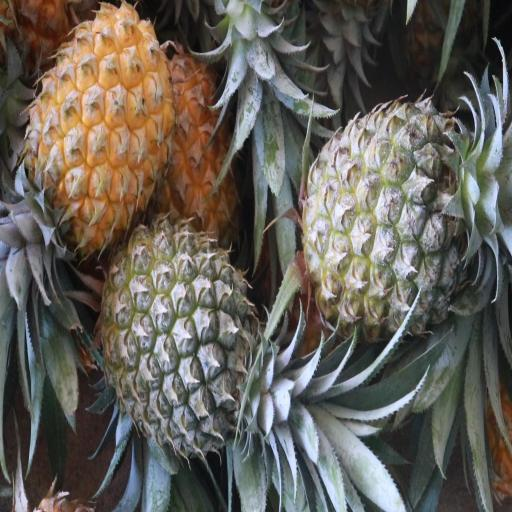Pineapple - v8 v1: (30, 4, 176, 248), (164, 56, 244, 246)
